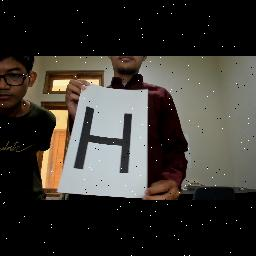h: (74, 106, 134, 174)
